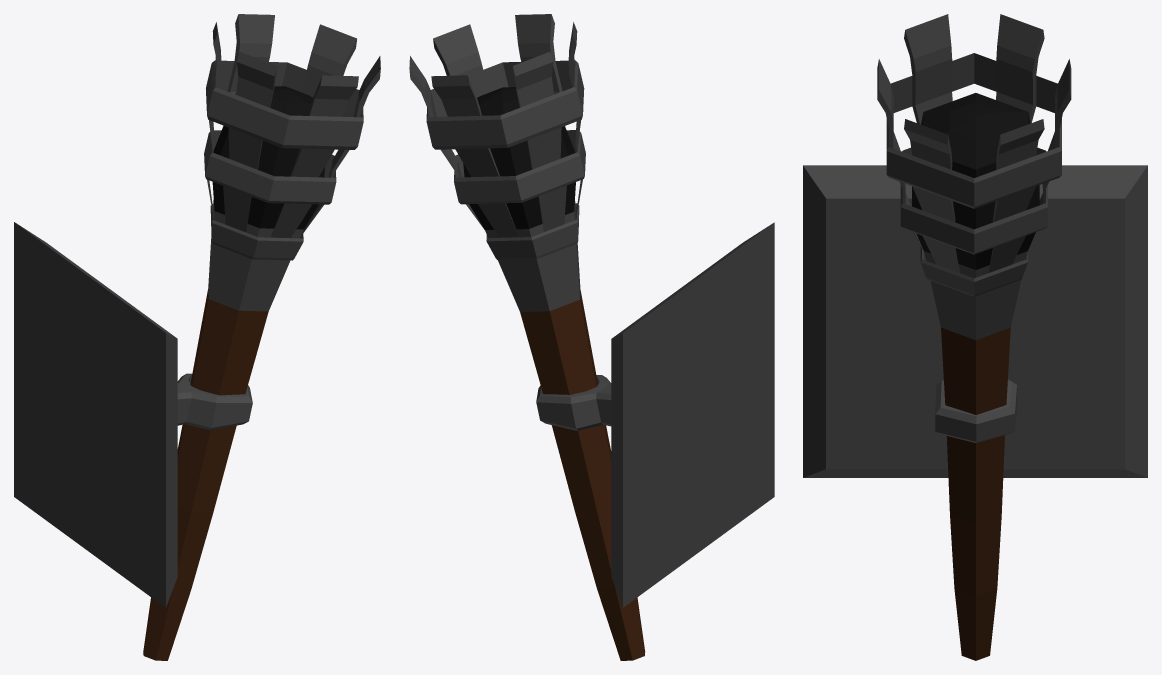
Rendered from MountedTorch01_FBX.fbx.
3 renders of one model, left to right at view 1: azimuth 30°, elevation 25°; view 2: azimuth 150°, elevation 25°; view 3: azimuth 270°, elevation 25°, orthographic. The views are drawn at different scales.
Parts seen in each view (by area): view 1: Torch_Mount, Torch_Sconce, Torch; view 2: Torch_Mount, Torch_Sconce, Torch; view 3: Torch_Mount, Torch_Sconce, Torch.
Part boxes in pixels (box(x1,y1,x2,y2)): Torch_Mount: box(14, 222, 252, 607); Torch_Sconce: box(204, 14, 380, 260); Torch: box(143, 86, 324, 660); Torch_Mount: box(536, 222, 774, 607); Torch_Sconce: box(409, 14, 585, 259); Torch: box(463, 87, 645, 660); Torch_Mount: box(803, 165, 1147, 477); Torch_Sconce: box(877, 14, 1071, 296); Torch: box(912, 93, 1039, 660).
Bounding box in the file's own units: 19.04 × 39.18 × 18.
